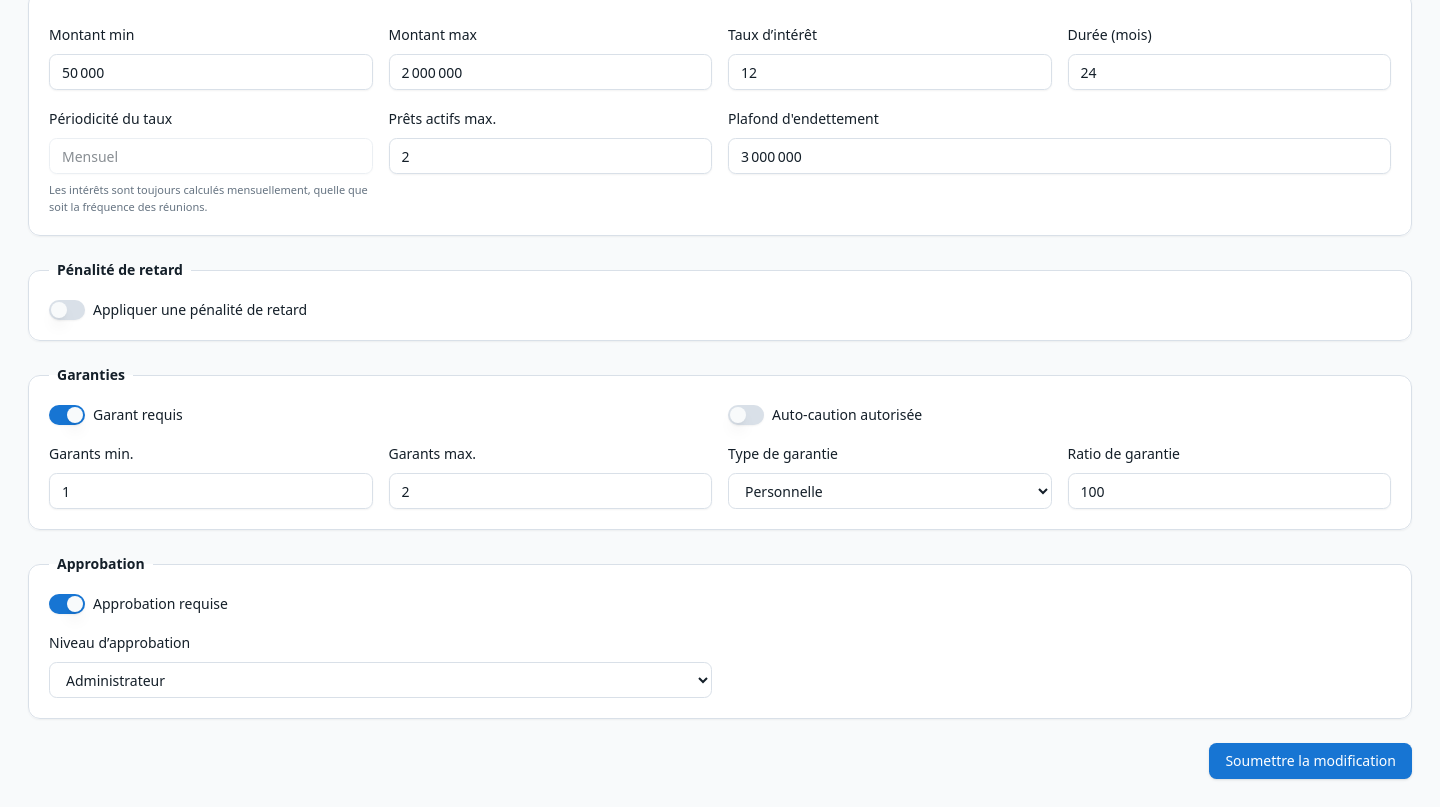
Test: Règle de crédit — disposition › Garanties : ON → les deux interrupteurs sur les deux moitiés ; OFF → l’interrupteur seul sur toute la ligne
This screenshot has width=1440, height=807.
(page scrolled)
Click the switch named "Garant requis" next to "Garant requis". click: [67, 415]
box: [49, 405, 85, 425]
(page scrolled)
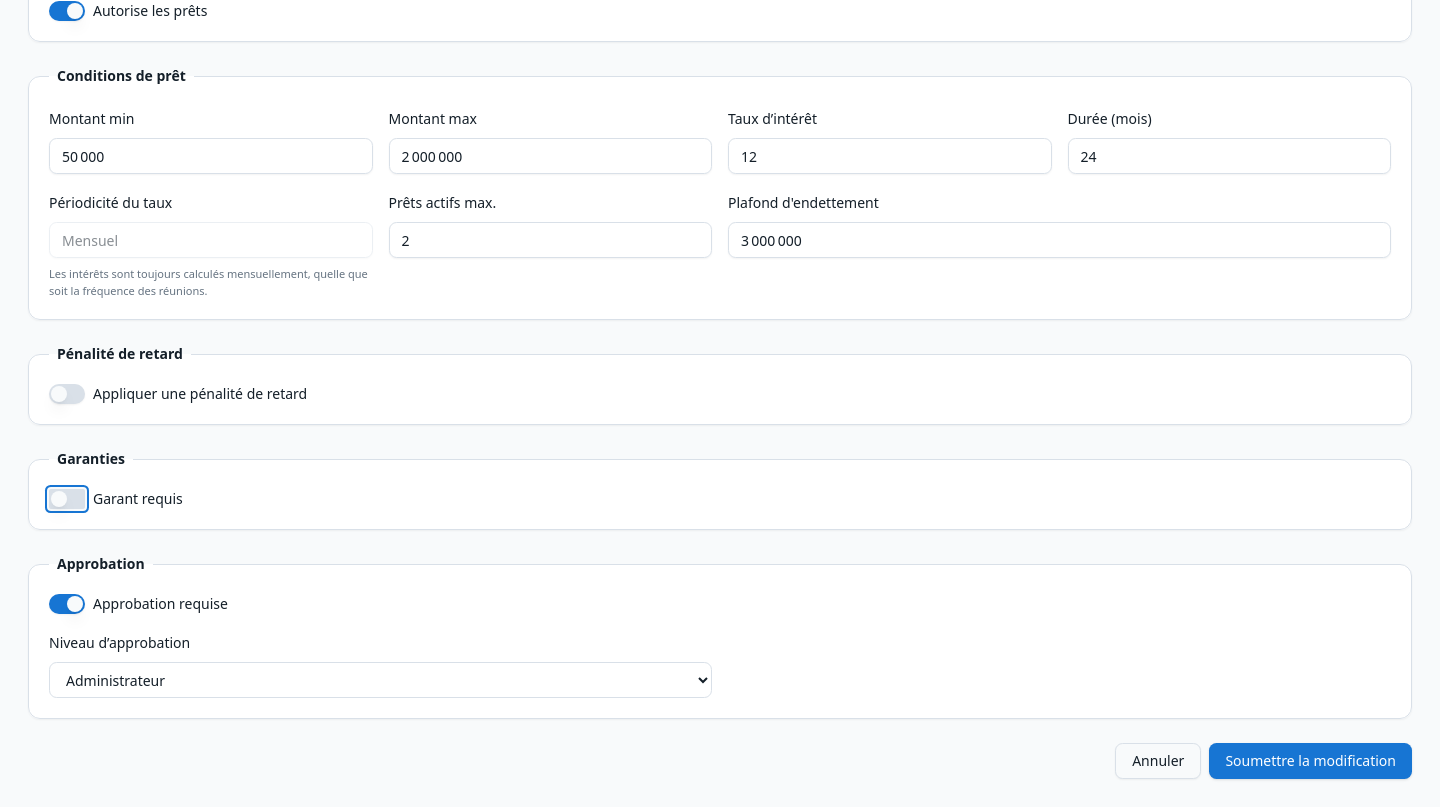
Expected: the element labelled "Garant requis" has class "lg:col-span-4", [49, 489, 183, 509]
